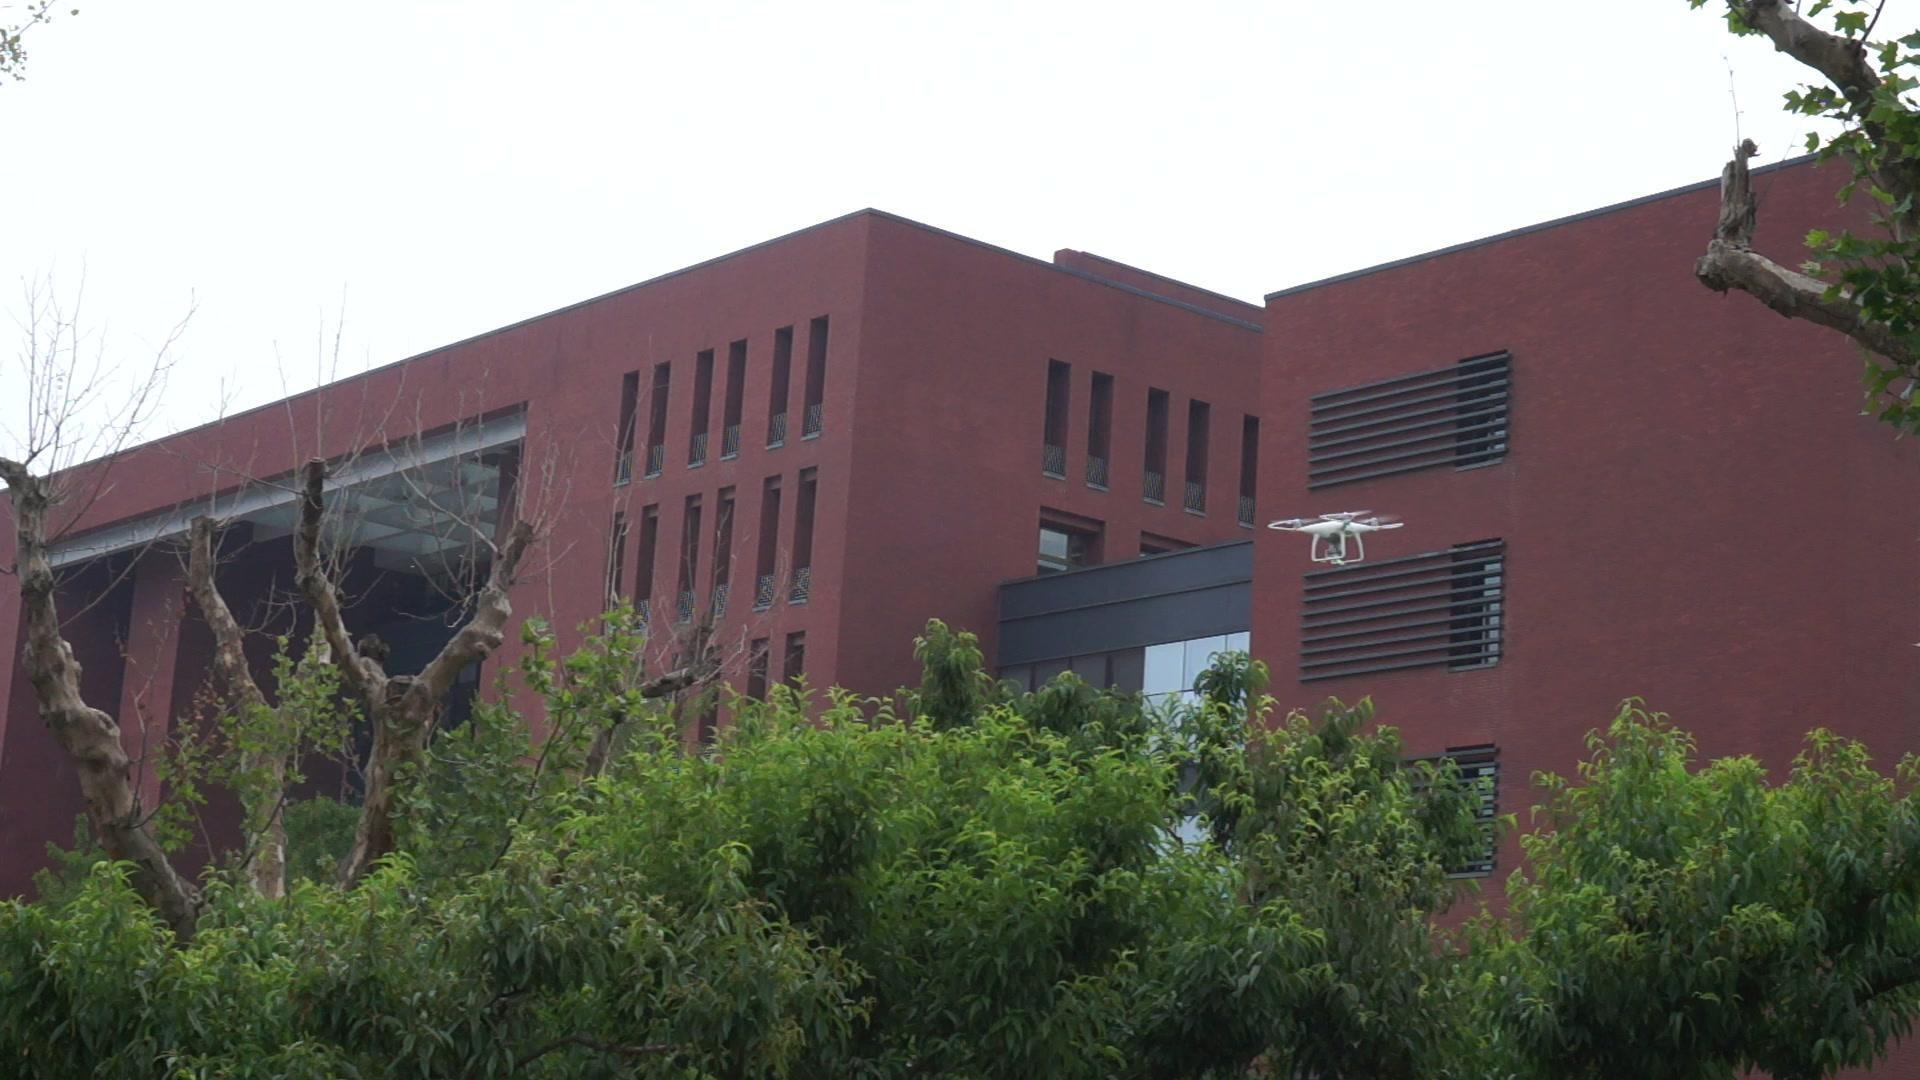UAV: (1267, 510, 1404, 566)
